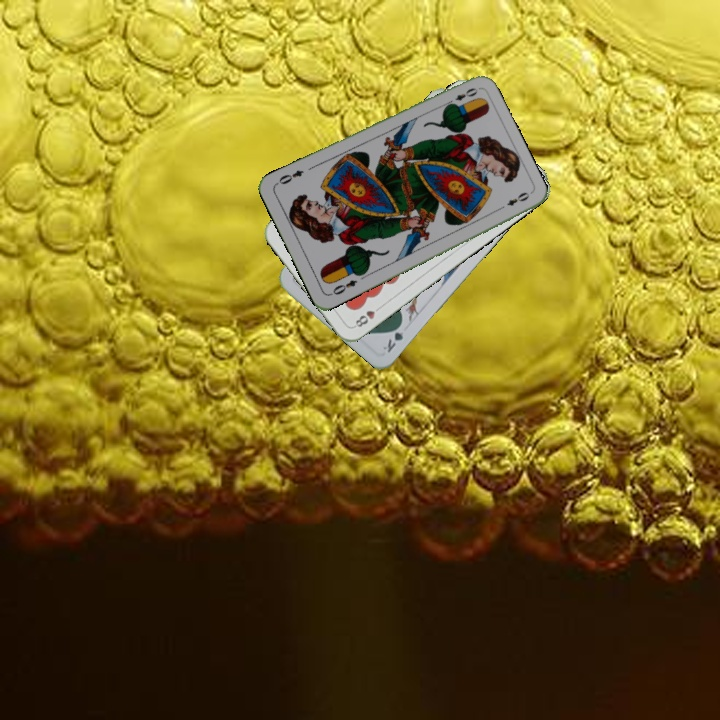EO: (442, 84, 480, 108), (326, 276, 360, 298)
GK: (379, 318, 406, 355)
H8: (350, 301, 385, 330)
